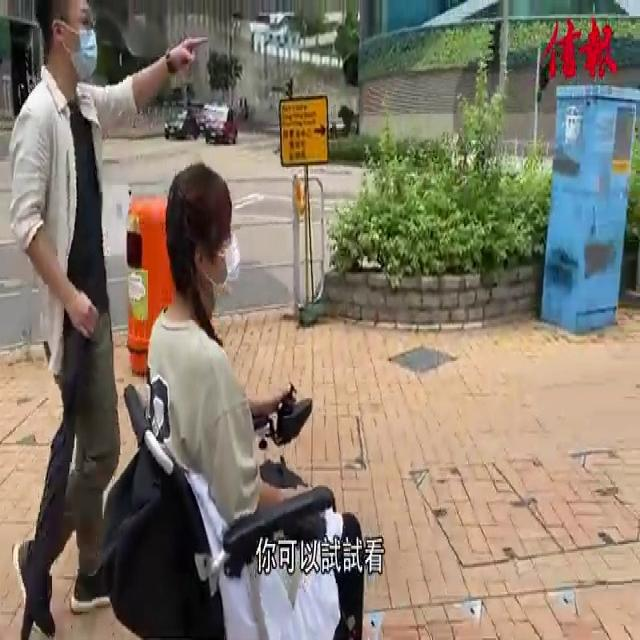wheelchairs: (88, 332, 400, 640)
